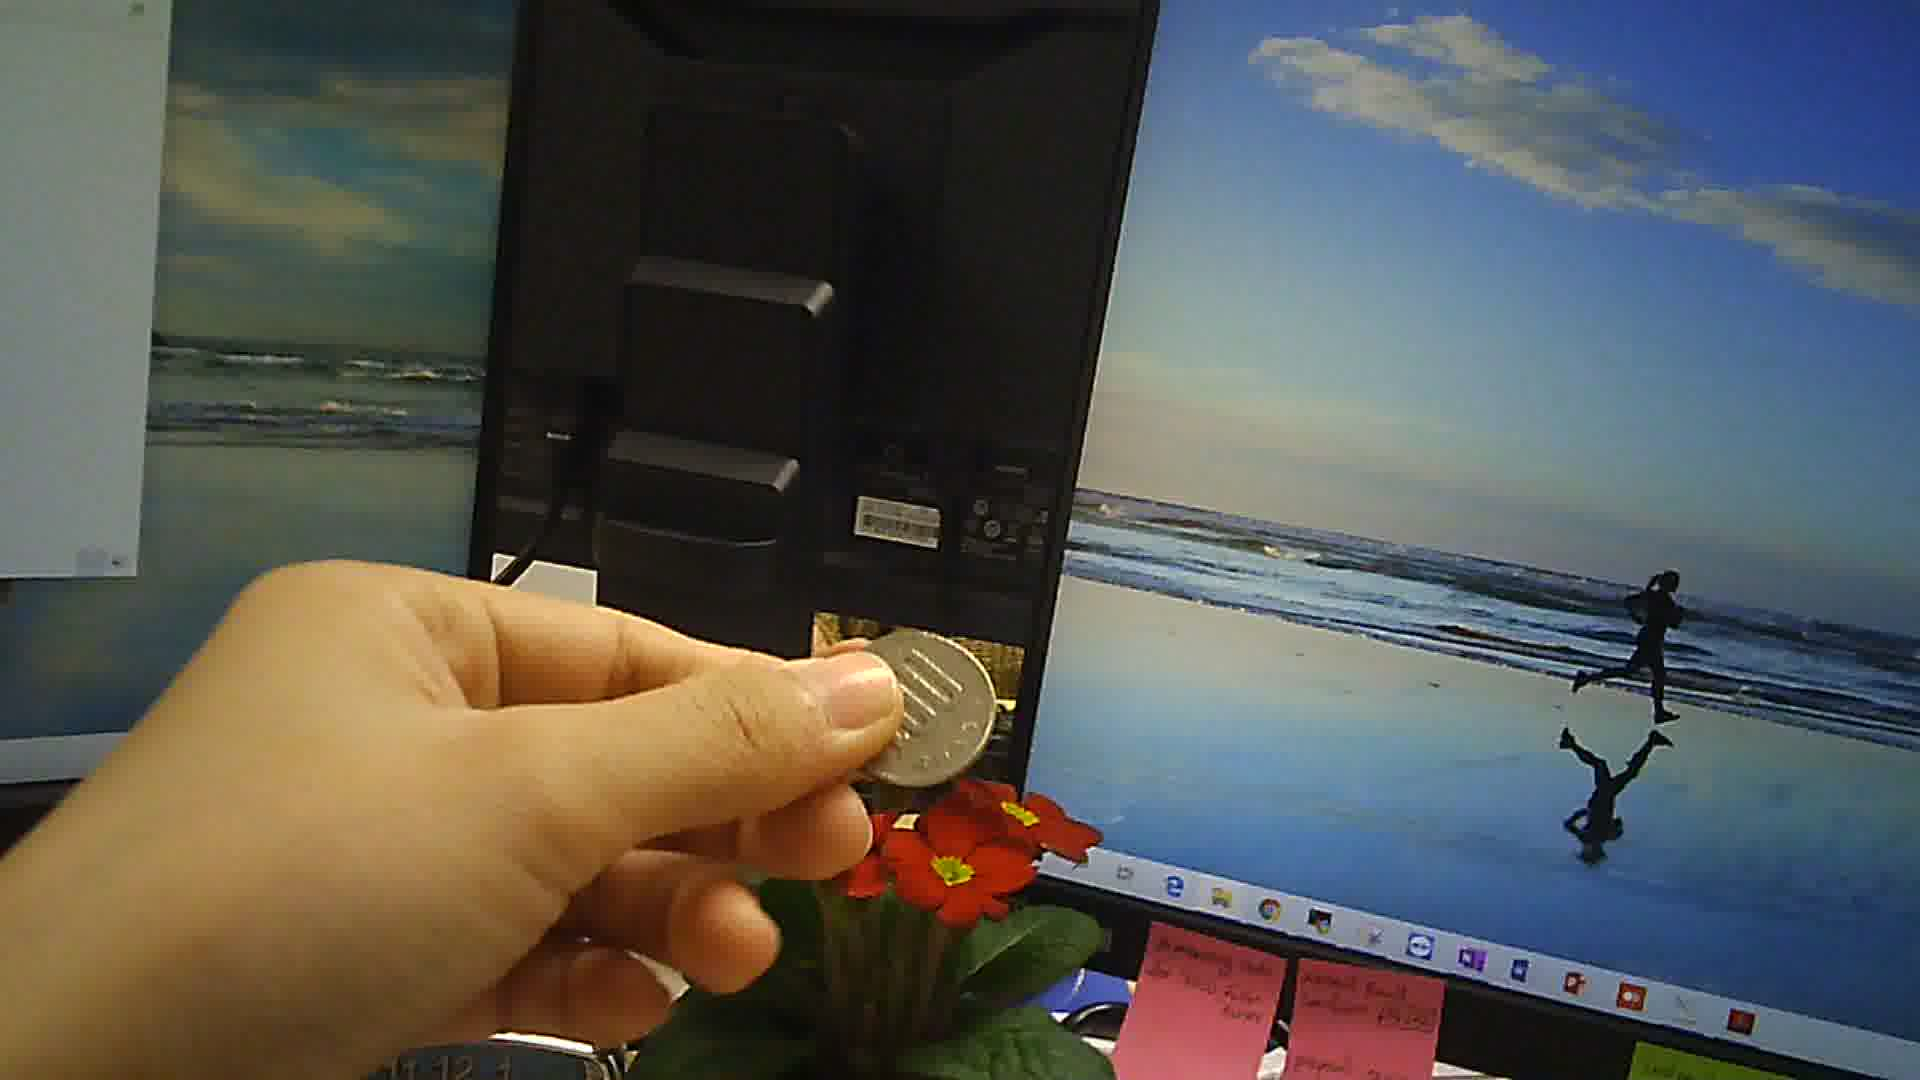100 Yen: (837, 624, 1000, 793)
